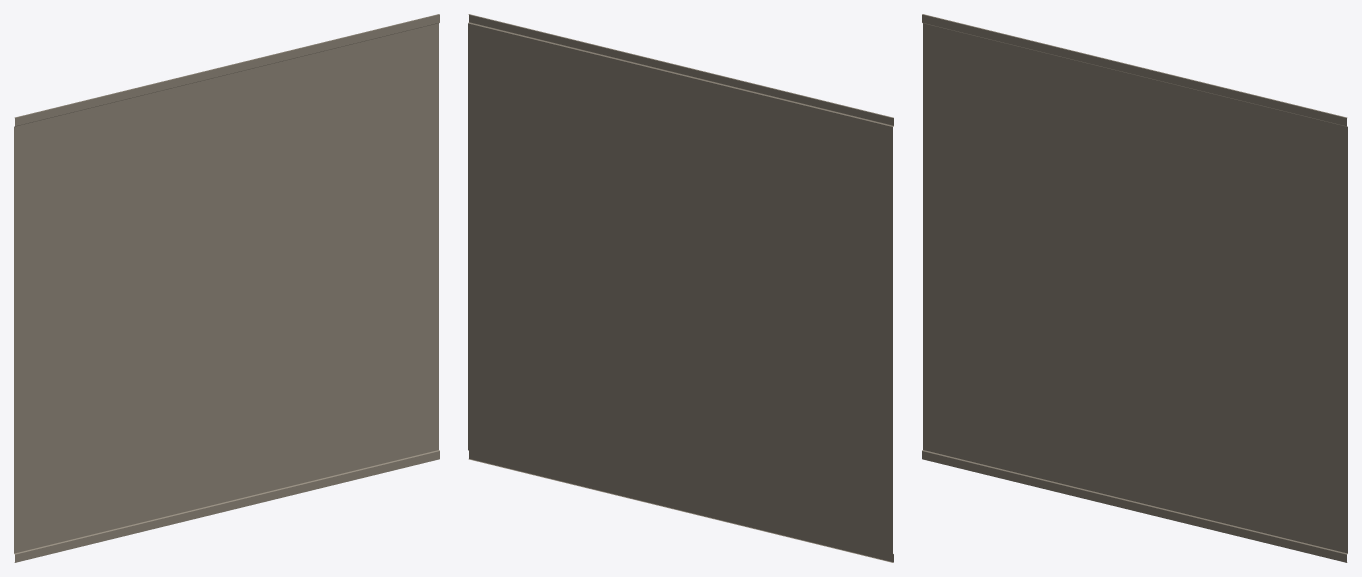
Rendered from Wall_5x5_Plain.fbx.
3 renders of one model, left to right at view 1: azimuth 30°, elevation 25°; view 2: azimuth 150°, elevation 25°; view 3: azimuth 330°, elevation 25°, orthographic.
Visible parts, largest first — view 1: Wall_5x5_Plain; view 2: Wall_5x5_Plain; view 3: Wall_5x5_Plain.
Boxes of the visible parts, left/top/right/bottom form: Wall_5x5_Plain: left=14, top=14, right=439, bottom=562; Wall_5x5_Plain: left=468, top=14, right=893, bottom=562; Wall_5x5_Plain: left=922, top=14, right=1347, bottom=562.
Size of the model in its own units: 5 by 5 by 0.015.
